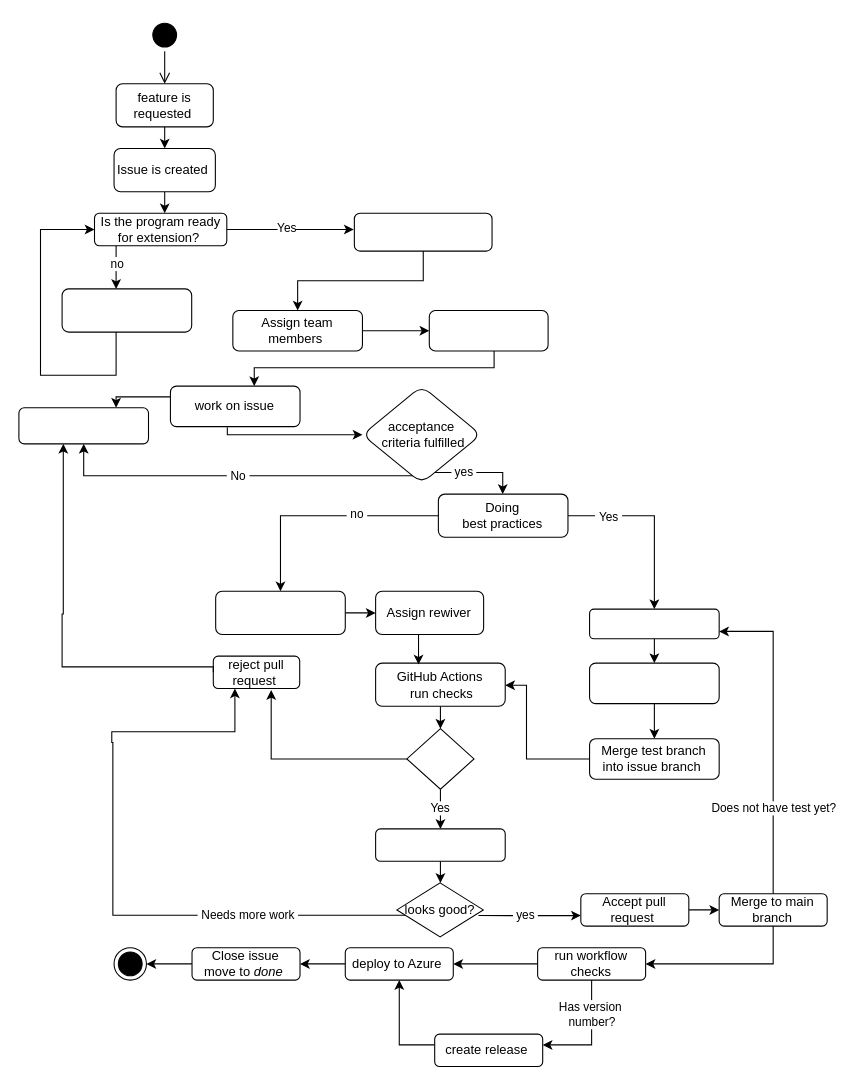
This 855x1085 diagram has some shape labels left out. The shapes that lost their labels are listed below. From the top down, each one's centre as x and y in pixels, then its label:
(422,231): Move to "In progress"
(126,310): Leve on " To do" bord for now
(488,330): create new branch
(83,425): create sub-branches to brake up problem
(280,612): create pull request
(653,623): create test branch
(653,683): Add test's
(440,758): pass
(440,844): reviewer checks code
